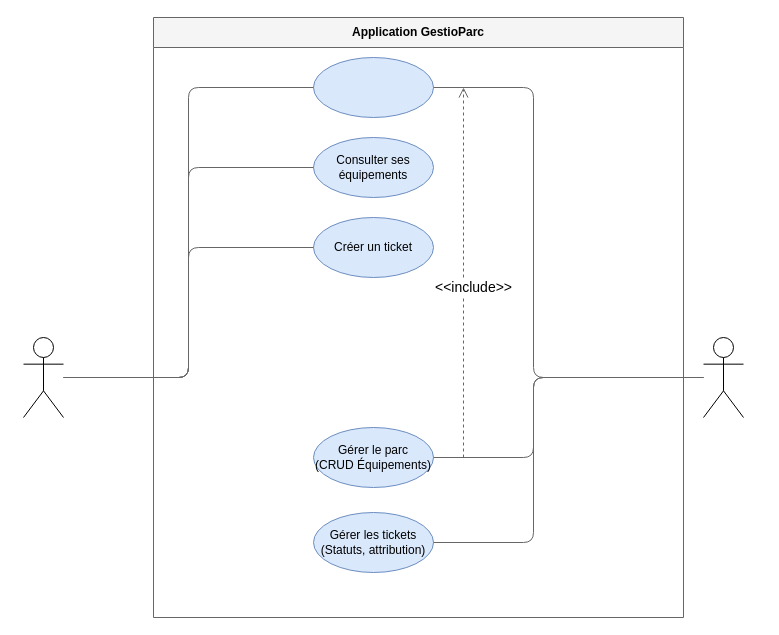
Image size: 779x635. Some labels were removed from this diagram. Each missing label, with the centre of its shape:
"Administrateur / Technicien" goes at (x=723, y=377).
"Se connecter" goes at (x=373, y=87).
"Utilisateur Standard" goes at (x=43, y=377).
